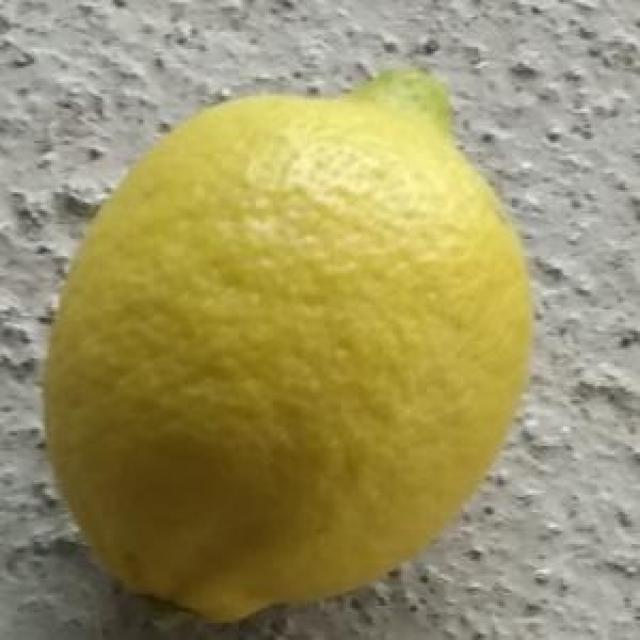lemon: (36, 73, 534, 624)
